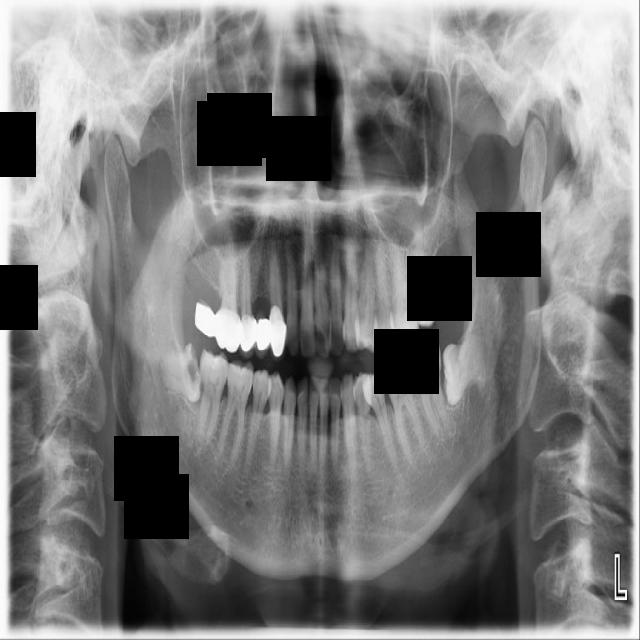52: (192, 298, 290, 363), (403, 335, 449, 389), (414, 283, 445, 329), (186, 344, 198, 389)
73: (617, 610, 627, 618)
BioHorizons Implant: (415, 219, 444, 328)
Biomet 3i Implant: (441, 332, 489, 406)
Blue Sky Bio Implant: (406, 336, 451, 439)
Implant: (192, 348, 230, 448)
Keystone Dental Implant: (154, 342, 207, 409)
